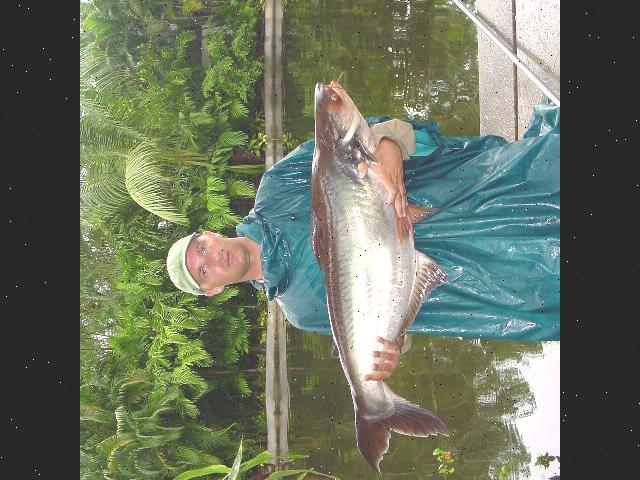Mulut: (311, 73, 357, 94)
Sirip Anal: (379, 249, 465, 353)
Sirip Dada: (350, 122, 382, 166)
Sirip Ekor: (346, 384, 460, 476)
Sirip Perut: (388, 196, 447, 242)
Sirip Punggung: (305, 210, 333, 274)
